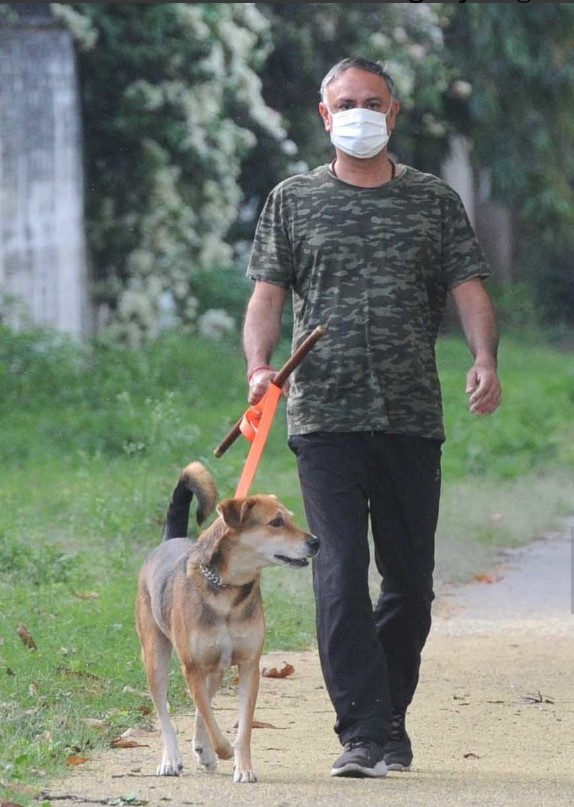face_with_mask: (321, 62, 391, 160)
